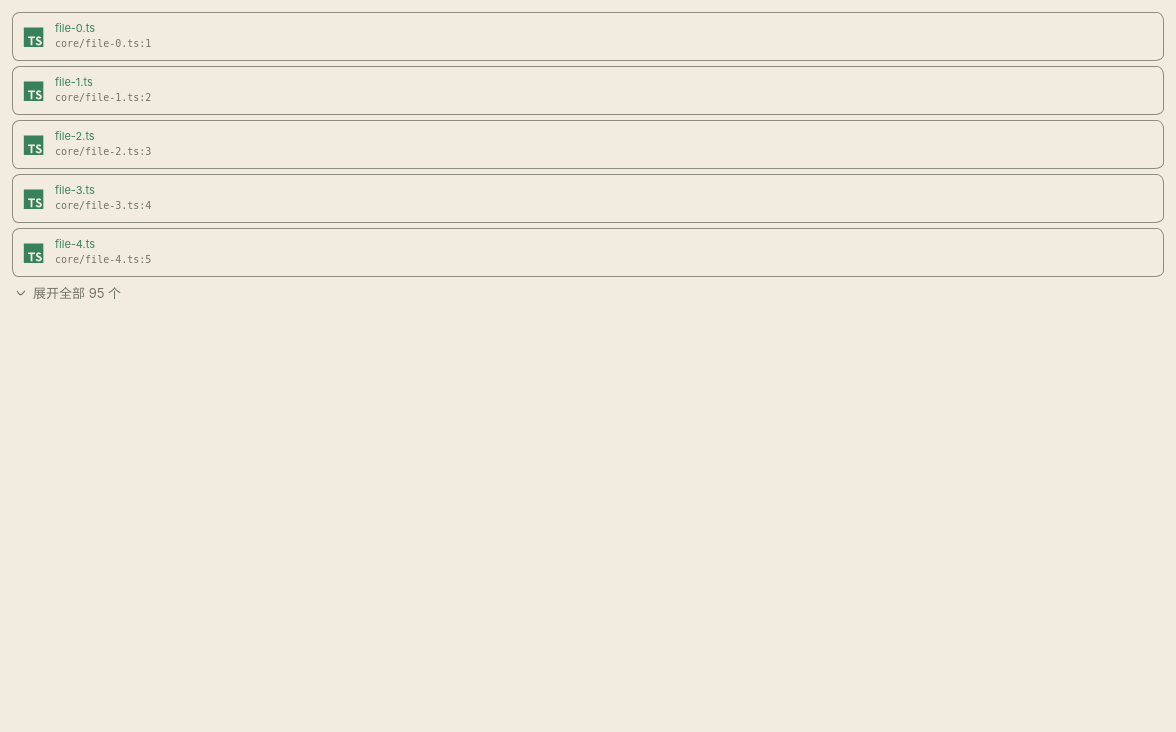
Test: jumps to a typed page and keeps the number in range
Click the button "展开全部 95 个".
click(68, 292)  # box [12, 279, 123, 306]
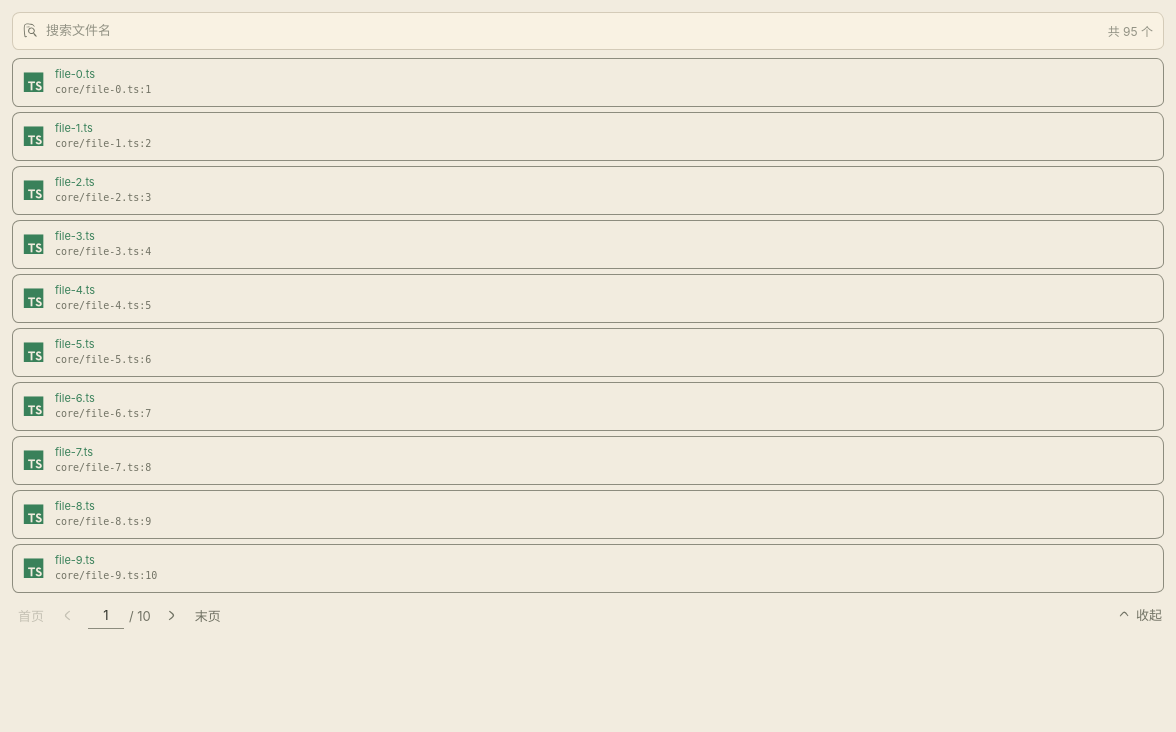
Replace the text in the field named "页码" with "4" at (106, 616), box [88, 602, 124, 629]
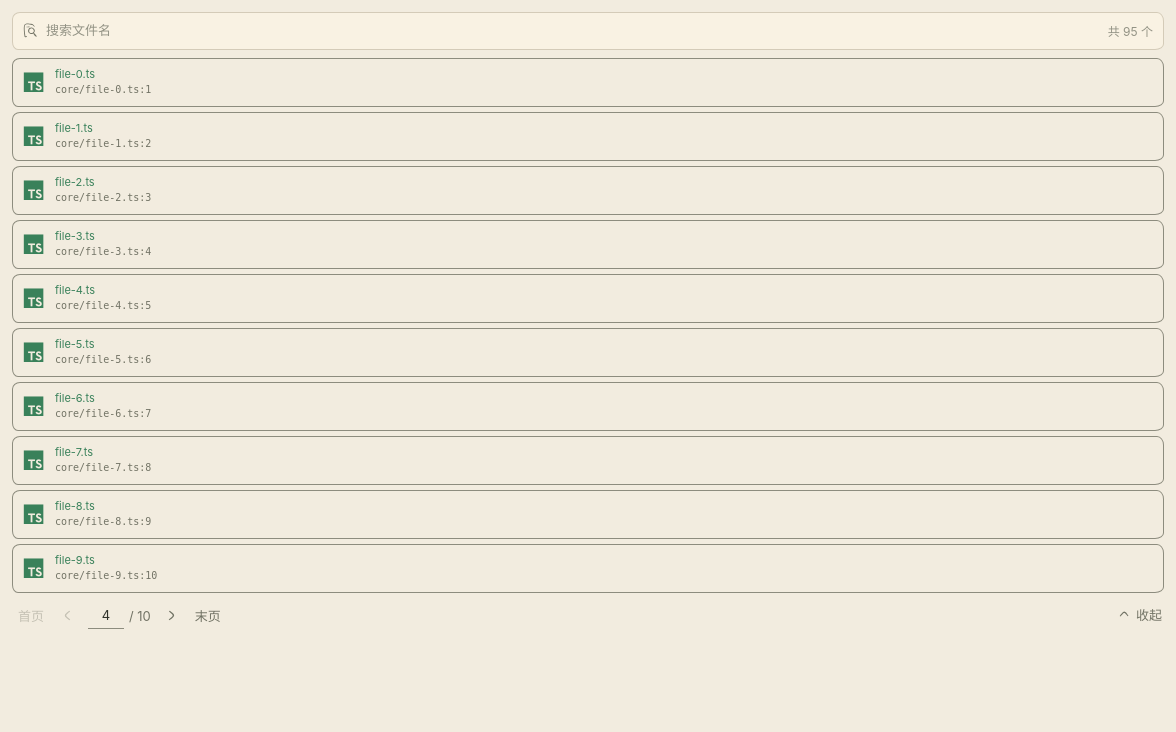
Press Enter in the field named "页码", box [88, 602, 124, 629]
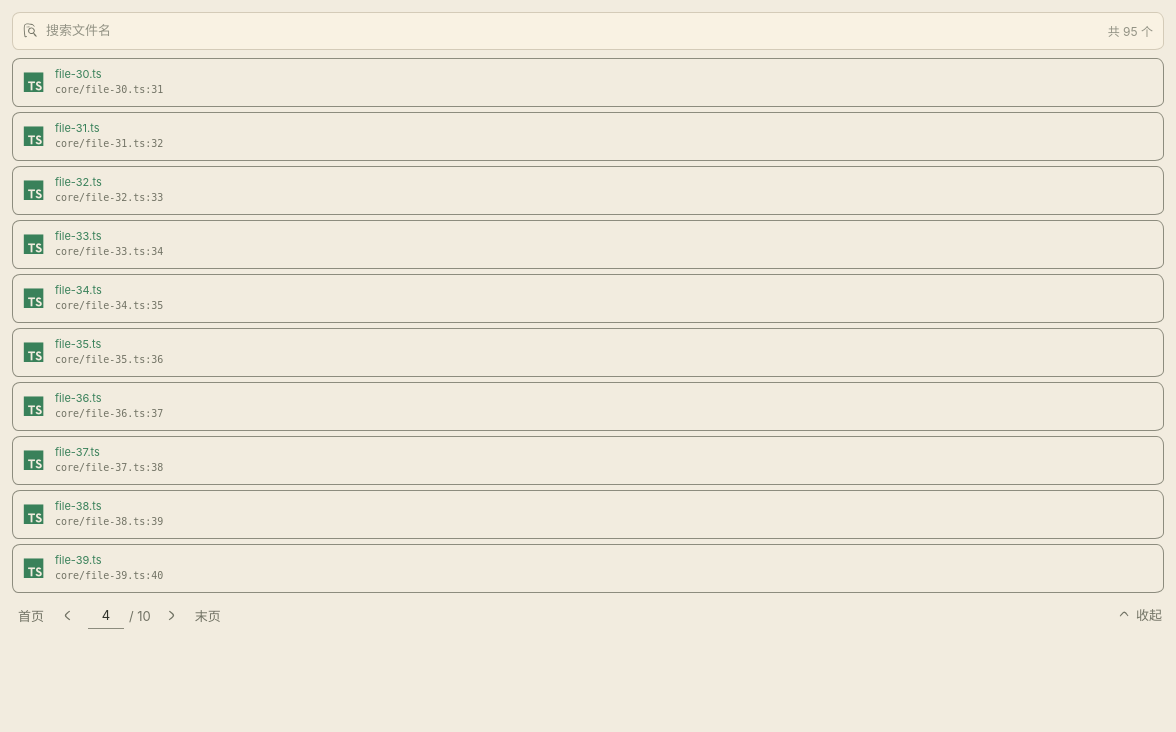
Replace the text in the field named "页码" with "99" at (106, 616), box [88, 602, 124, 629]
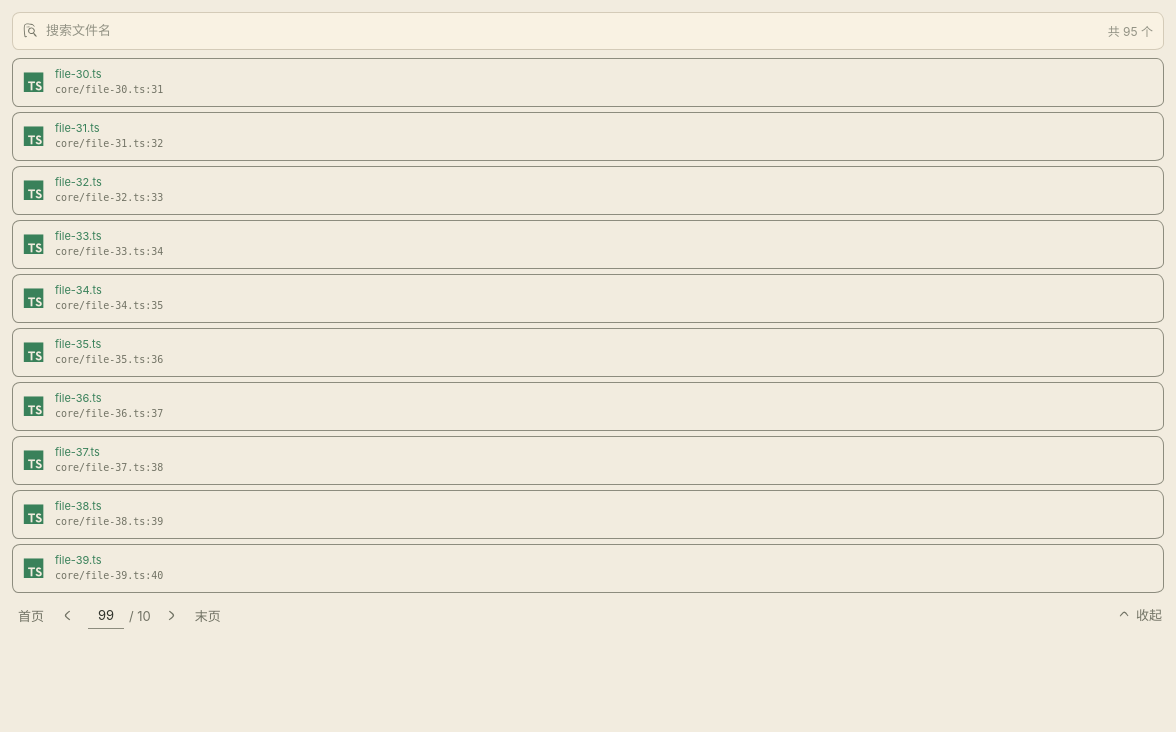
Leave the field named "页码", box [88, 602, 124, 629]
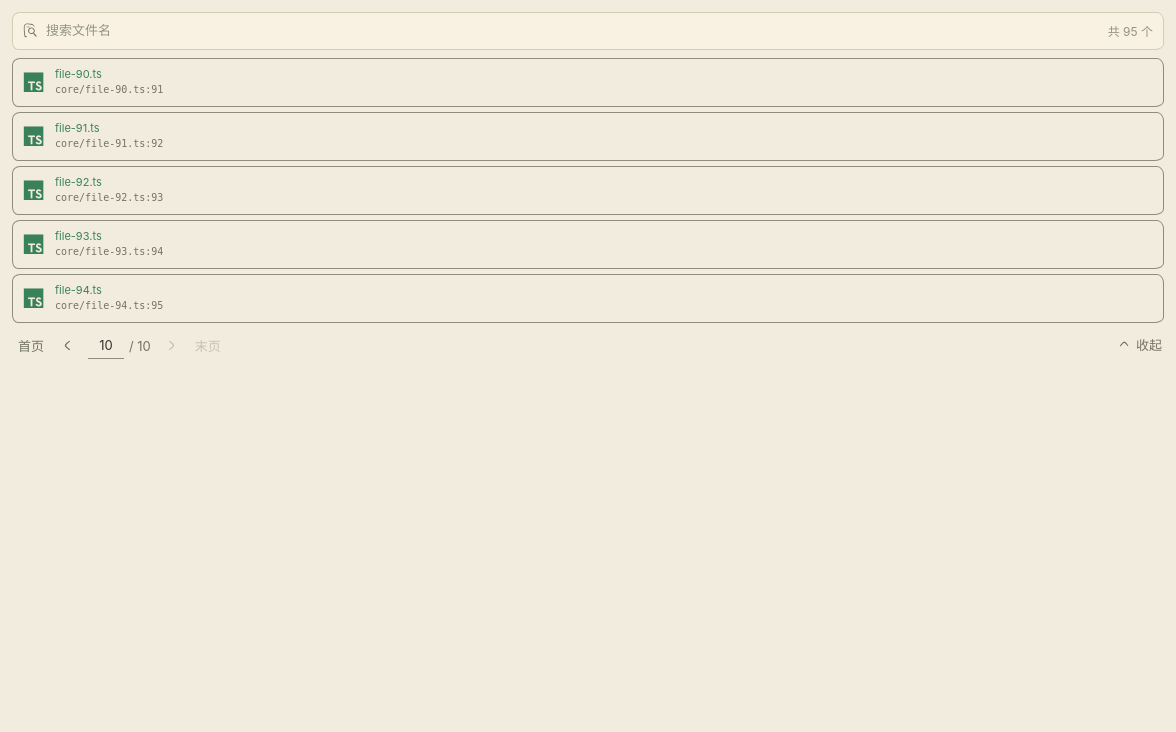
Expected: the field named "页码" holds "10", [88, 332, 124, 359]
